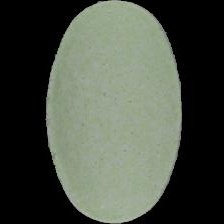68788-9997: (0, 0, 224, 224)
